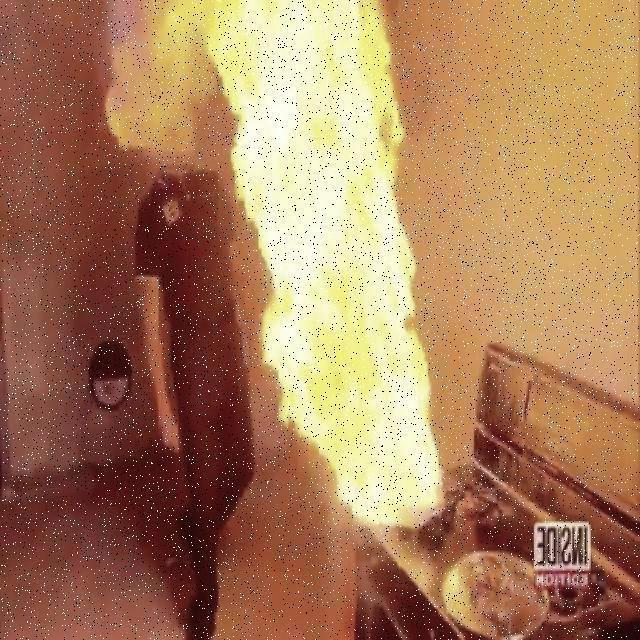fire: (199, 0, 487, 549)
